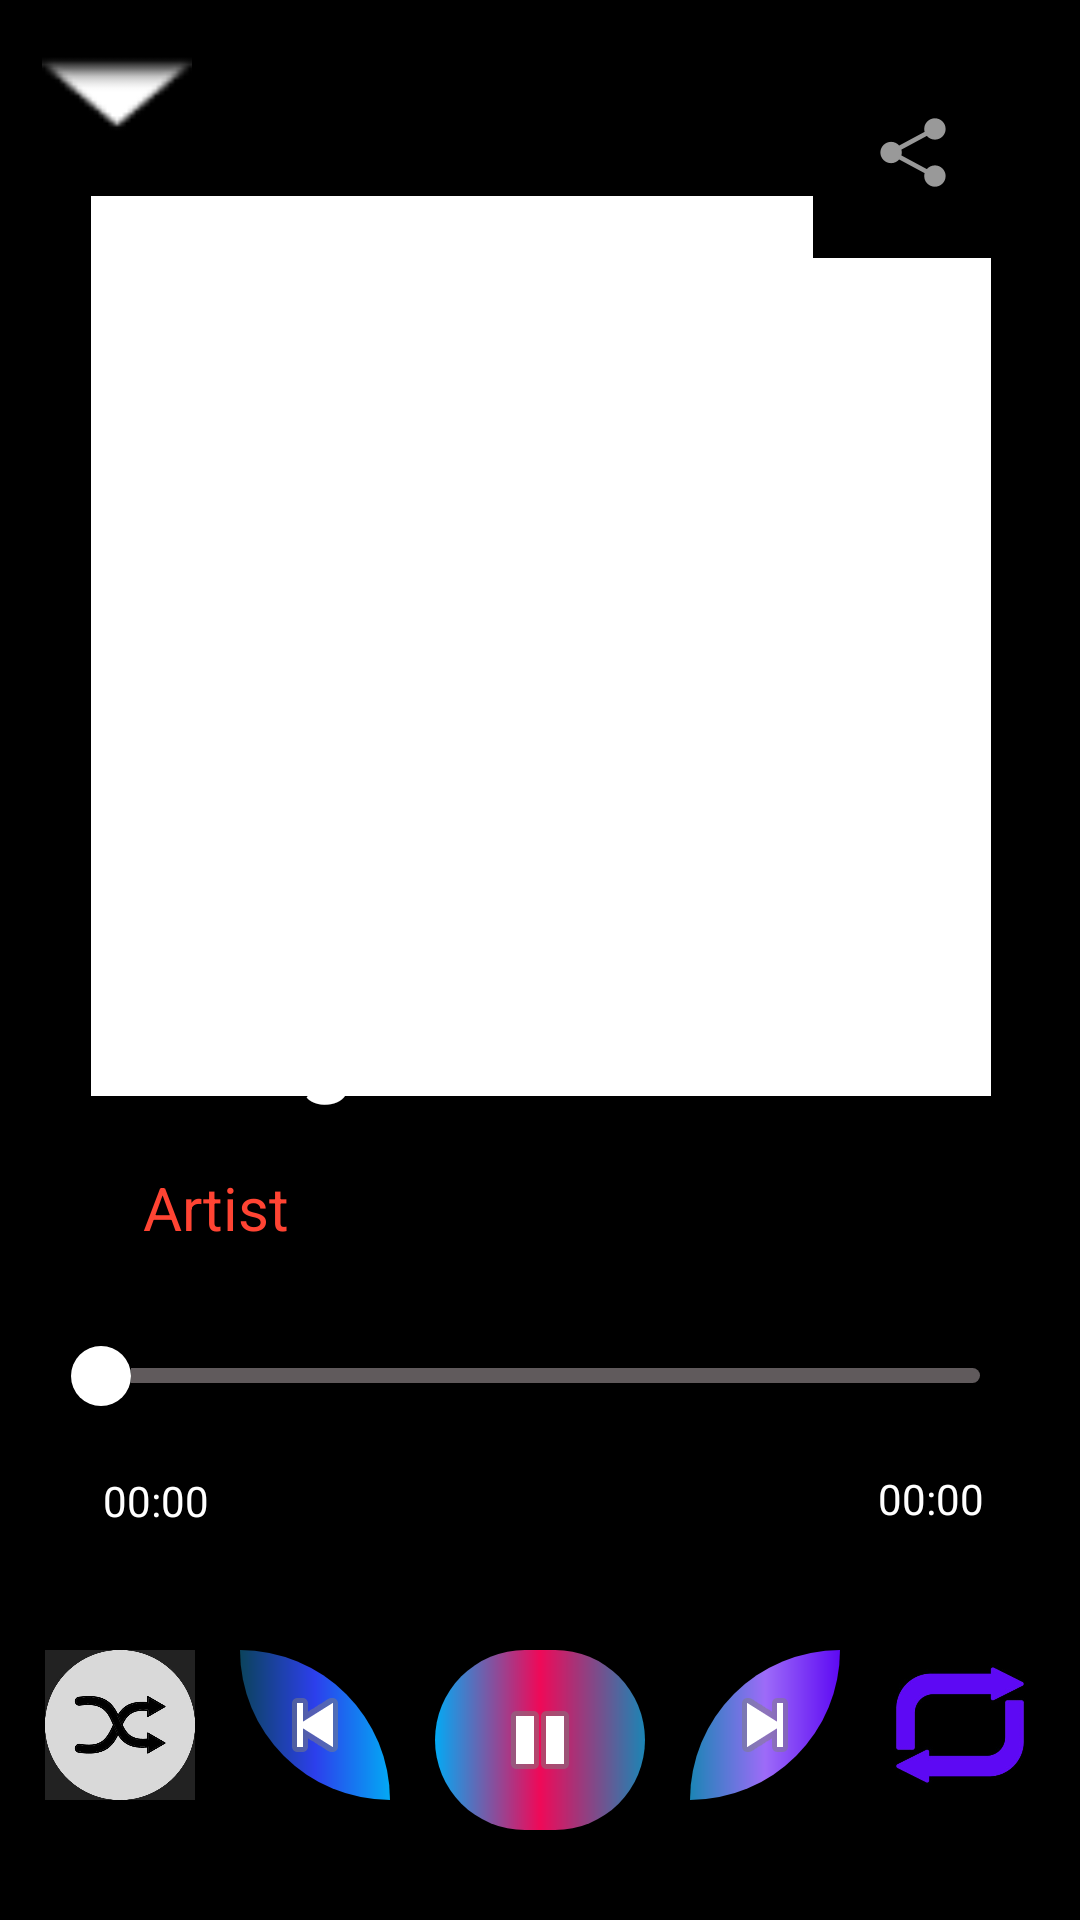

Icons on this 1080×1920 Android screen, each with the point to tap as point (x, y):
arrow down float: point (117, 94)
next button: point (765, 1725)
no shuffle: point (120, 1725)
Pause Button: point (540, 1740)
previous button: point (315, 1725)
repeat loop: point (960, 1725)
share button: point (913, 152)
